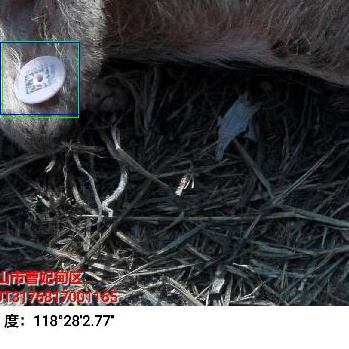text: (2, 41, 78, 117)
